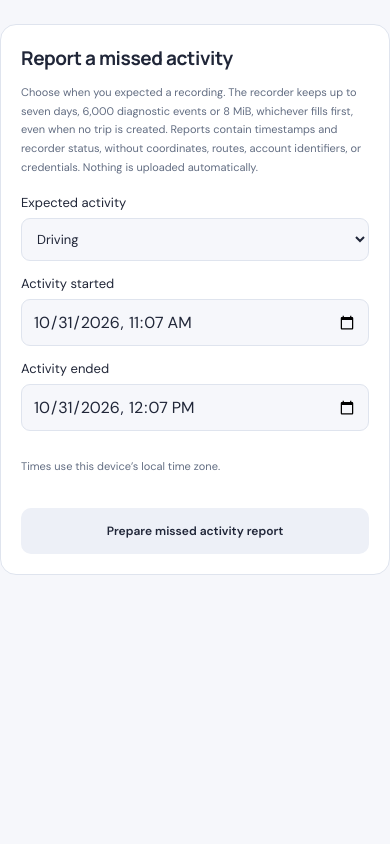
creates an incident report even when there is no recorded activity
Select "Walking" in the dropdown labelled "Expected activity" at (195, 240), box x1=21 y1=218 x2=369 y2=261
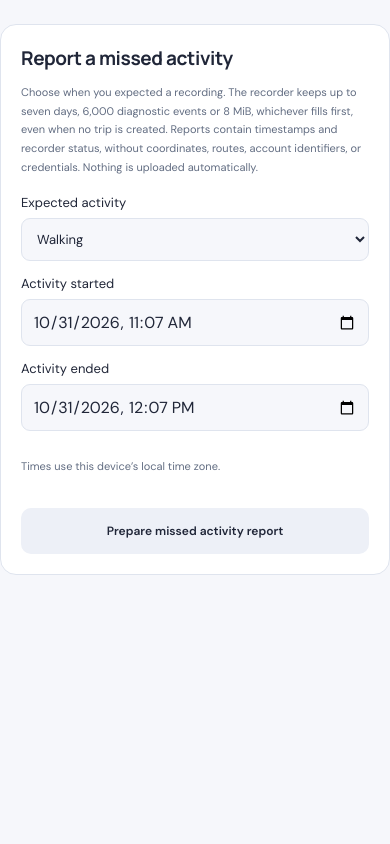
Click the button "Prepare missed activity report".
click(195, 531)  # box x1=21 y1=508 x2=369 y2=554
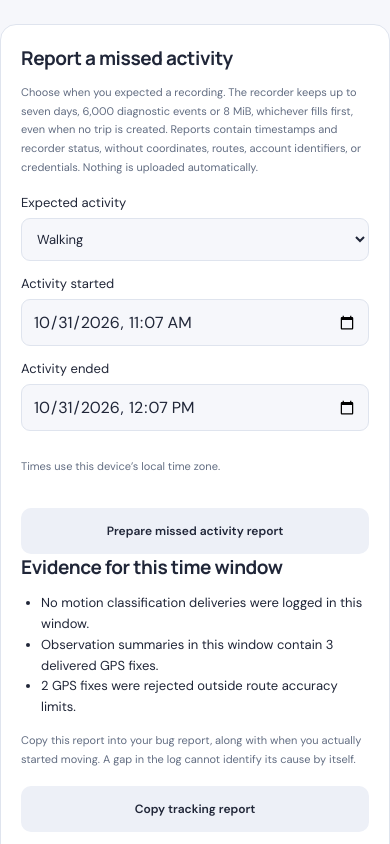
expect the list item "2 GPS fixes were rejected outside route accuracy limits." is shown: met, box x1=41 y1=676 x2=369 y2=718
